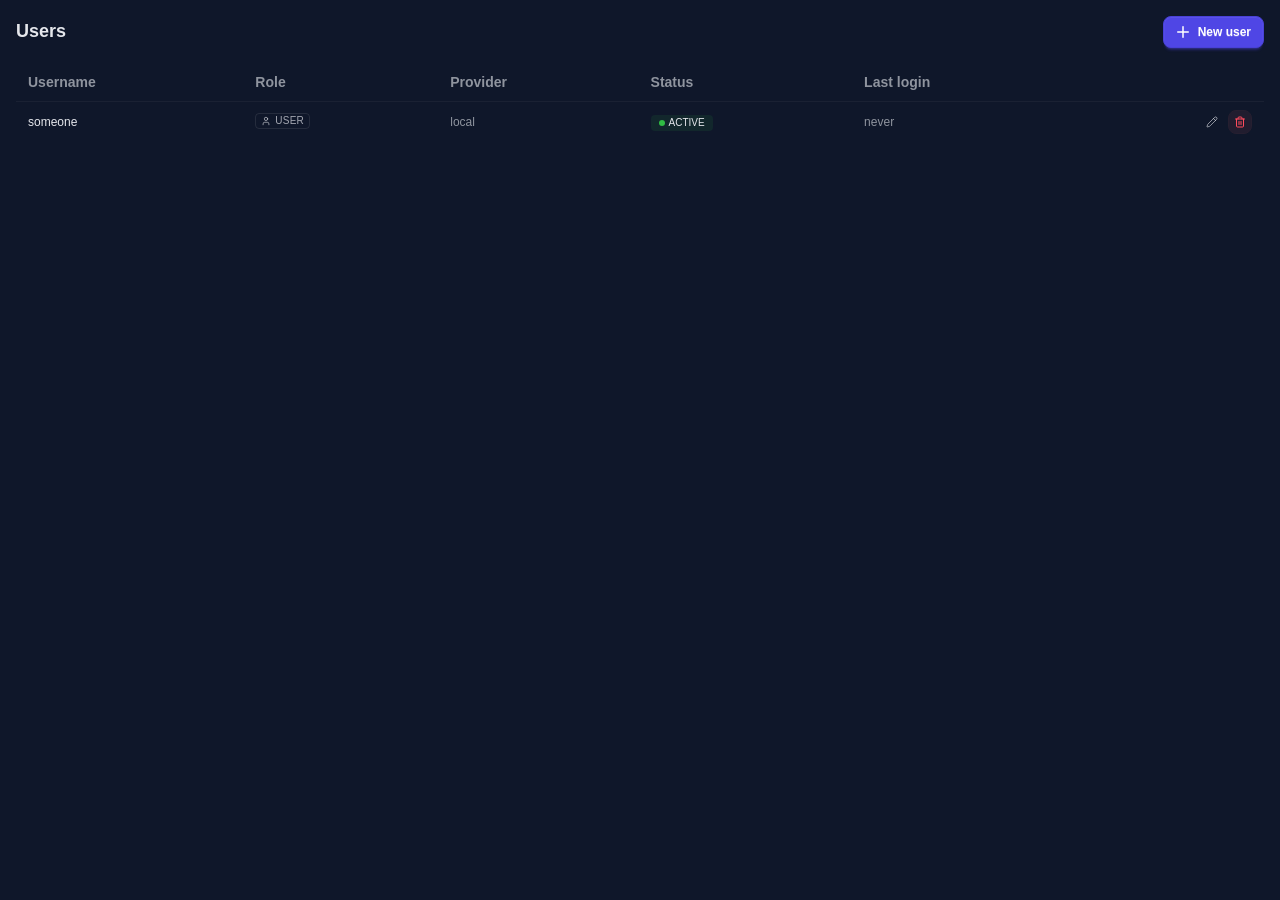
Test: an edit the backend rejects shows its message in the dialog, which stays open
Expected: the cell "someone" is shown, [16,102,243,142]
Click the button named "Edit someone": x=1212, y=122 [1200,110,1224,134]
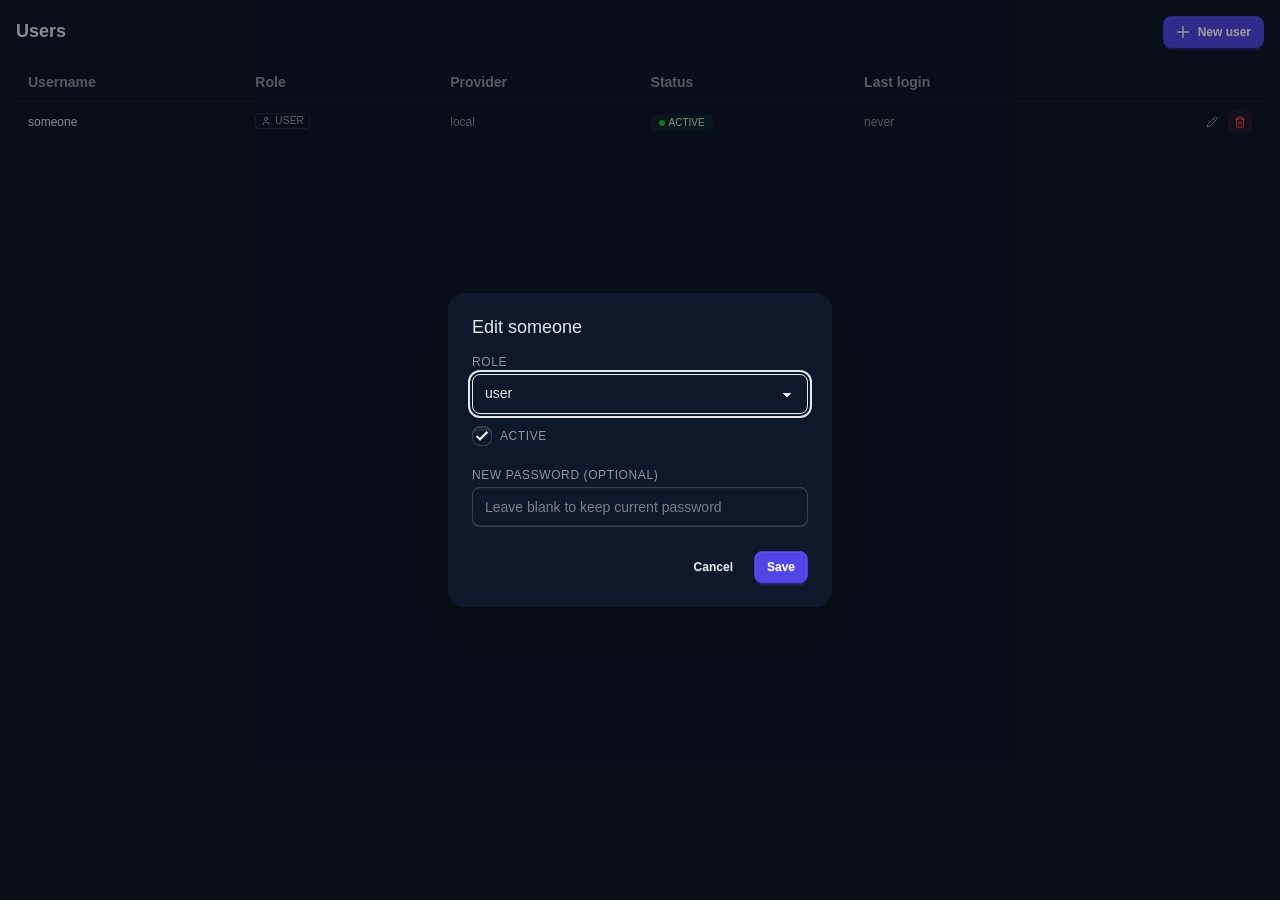
Click the button "Save": x=781, y=567 [754,551,808,583]
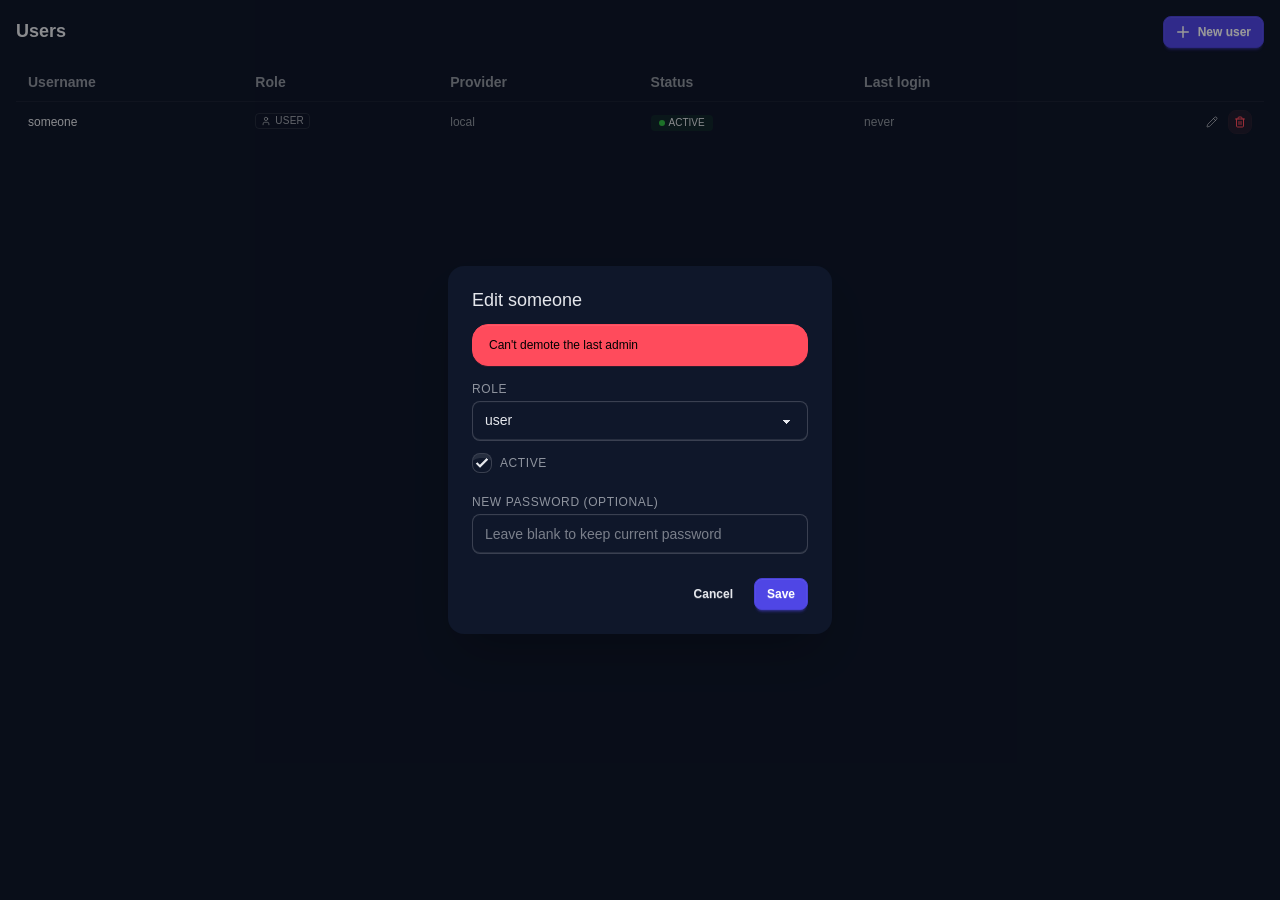
Result: the message reads "Can't demote the last admin" at [489,338,638,352]
